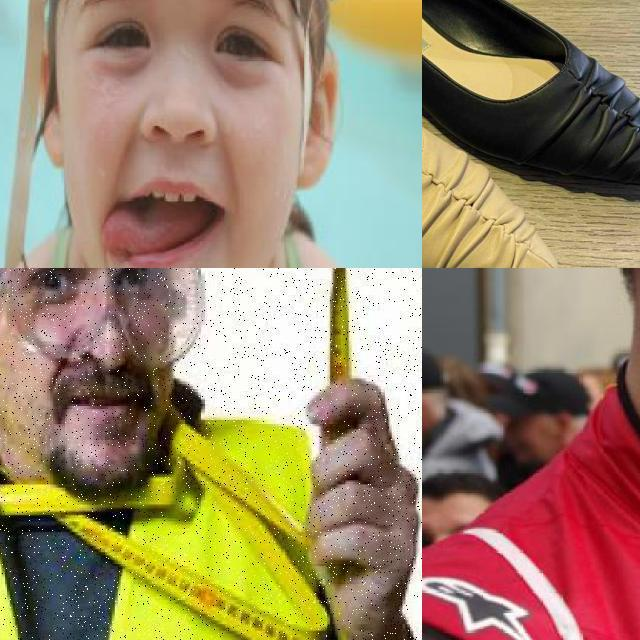No_Glasses: (61, 0, 313, 85)
Sandals: (422, 0, 640, 202), (422, 0, 569, 268)
face_nomask: (85, 0, 274, 268), (0, 332, 170, 499)
glasses: (0, 268, 203, 367)
